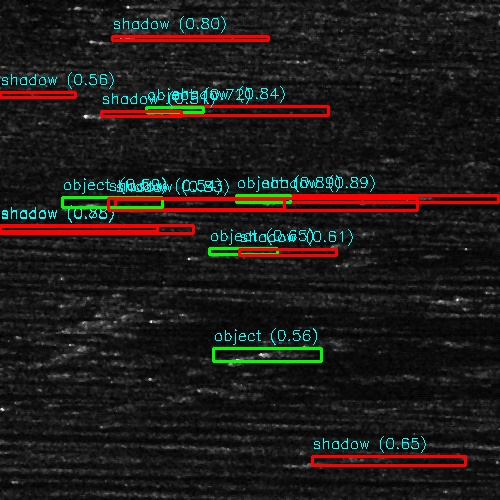rock: (31, 195, 176, 210), (188, 348, 323, 359), (72, 312, 135, 325), (203, 249, 296, 256), (67, 324, 108, 335), (343, 258, 406, 265), (131, 108, 184, 113), (109, 0, 162, 5), (288, 54, 341, 59), (153, 36, 194, 41)
shadow: (104, 195, 432, 210), (104, 312, 265, 325), (158, 108, 408, 113), (256, 348, 340, 359), (88, 324, 168, 335), (315, 54, 488, 59), (174, 36, 343, 41), (136, 0, 303, 5), (375, 258, 461, 265), (250, 249, 334, 256), (0, 91, 57, 100), (0, 228, 127, 231)
